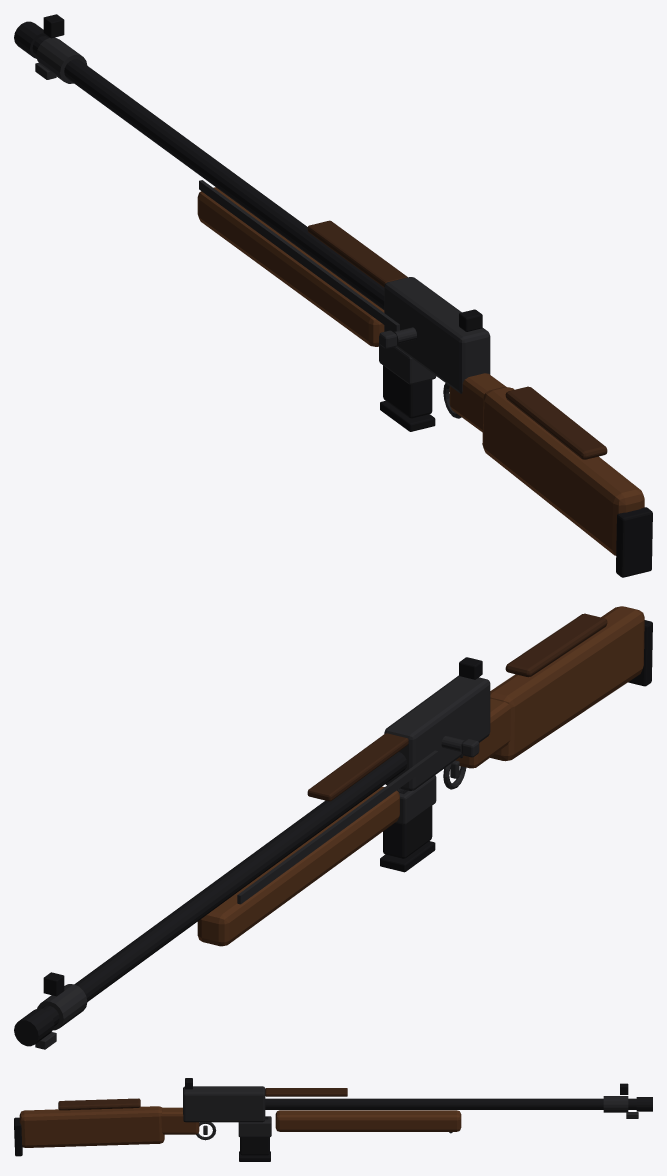
The model's file is rifle.obj.
The picture shows the model from 3 angles, top to bottom: view 1: azimuth 30°, elevation 25°; view 2: azimuth 150°, elevation 25°; view 3: azimuth 270°, elevation 25°; orthographic projection. The views are drawn at different scales.
Parts seen in each view (by area): view 1: rifle; view 2: rifle; view 3: rifle.
Boxes of the visible parts, x1,y1,x2,y2 form: rifle: (14,14,652,577); rifle: (14,606,652,1049); rifle: (14,1078,652,1161).
Size of the model in its own units: 0.0915 by 0.211 by 1.55.
